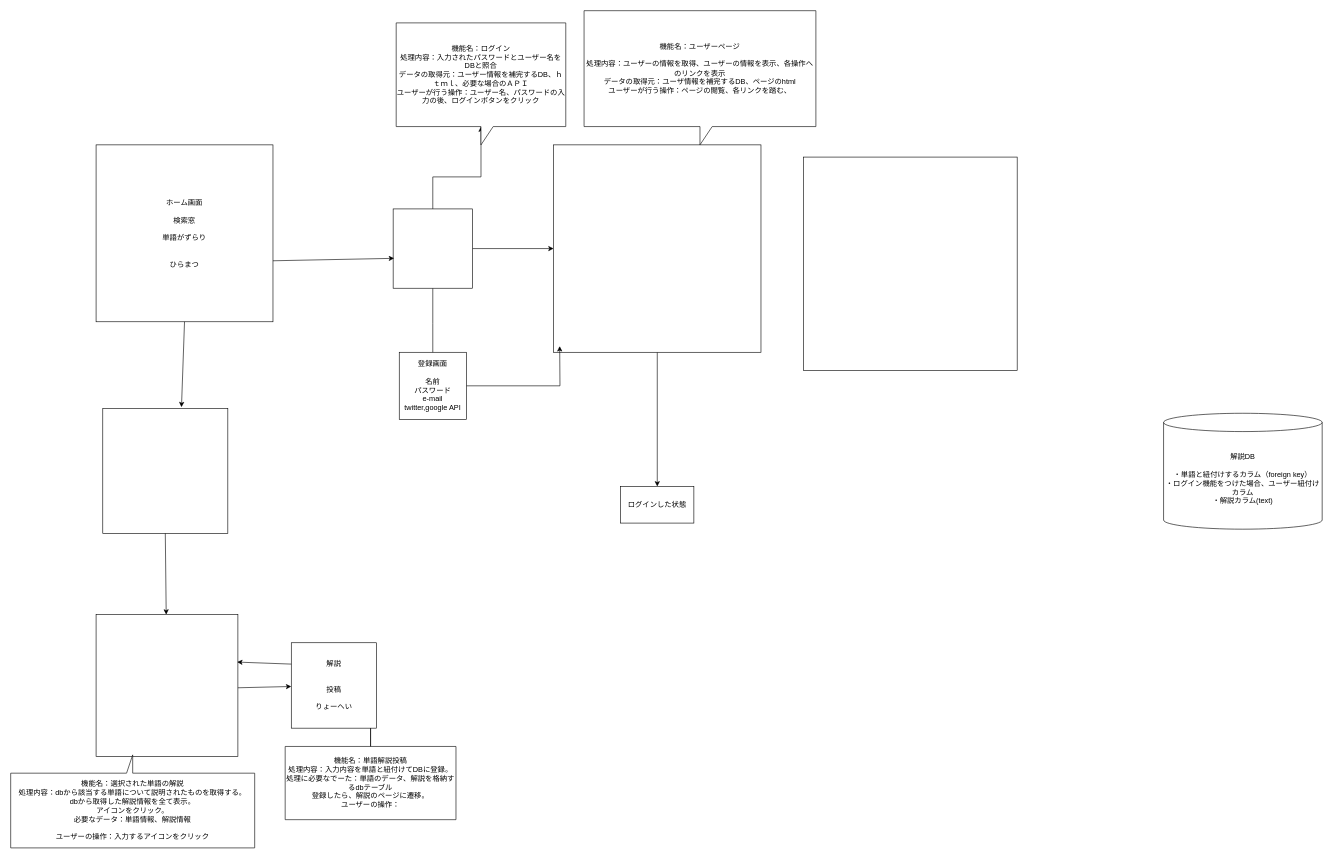
The diagram is 1333 pixels wide and 859 high, and some of its shapes have lost their labels. Here are the shapes that lost their labels. From the top down, the box of each, then its label:
(393, 208, 472, 288): ログイン パスワード ユーザー名 ひろみ
(553, 144, 761, 352): ユーザーページ ユーザー名 過去の投稿一覧 ログアウト s
(803, 156, 1017, 371): 機能名 処理内容 処理に必要なデータ データの取得元 ユーザーが行い操作
(102, 408, 228, 533): 単語 解説 解説 解説 ひらまつ
(95, 614, 238, 756): 単語の解説 書き込むアイコン りょーへい
